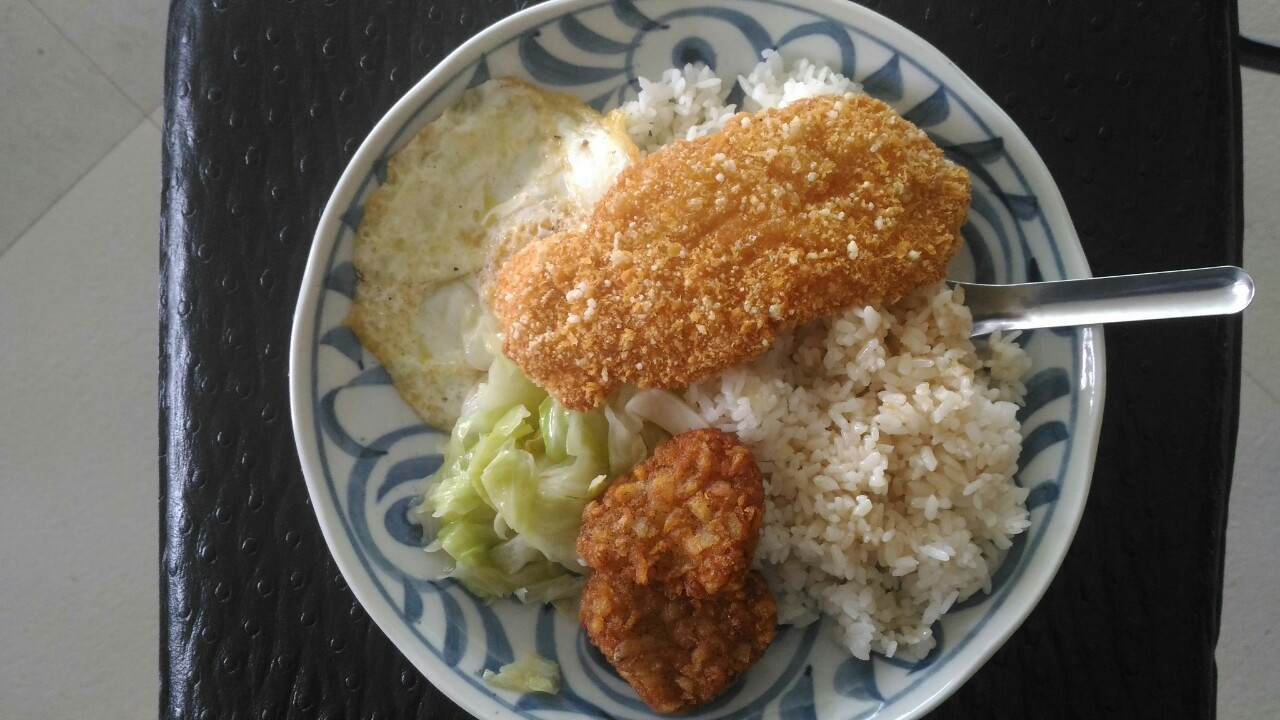chinese_cabbage: (408, 381, 586, 603)
fried_eggs: (350, 77, 643, 429), (587, 428, 787, 712)
rice: (775, 304, 1020, 652)
